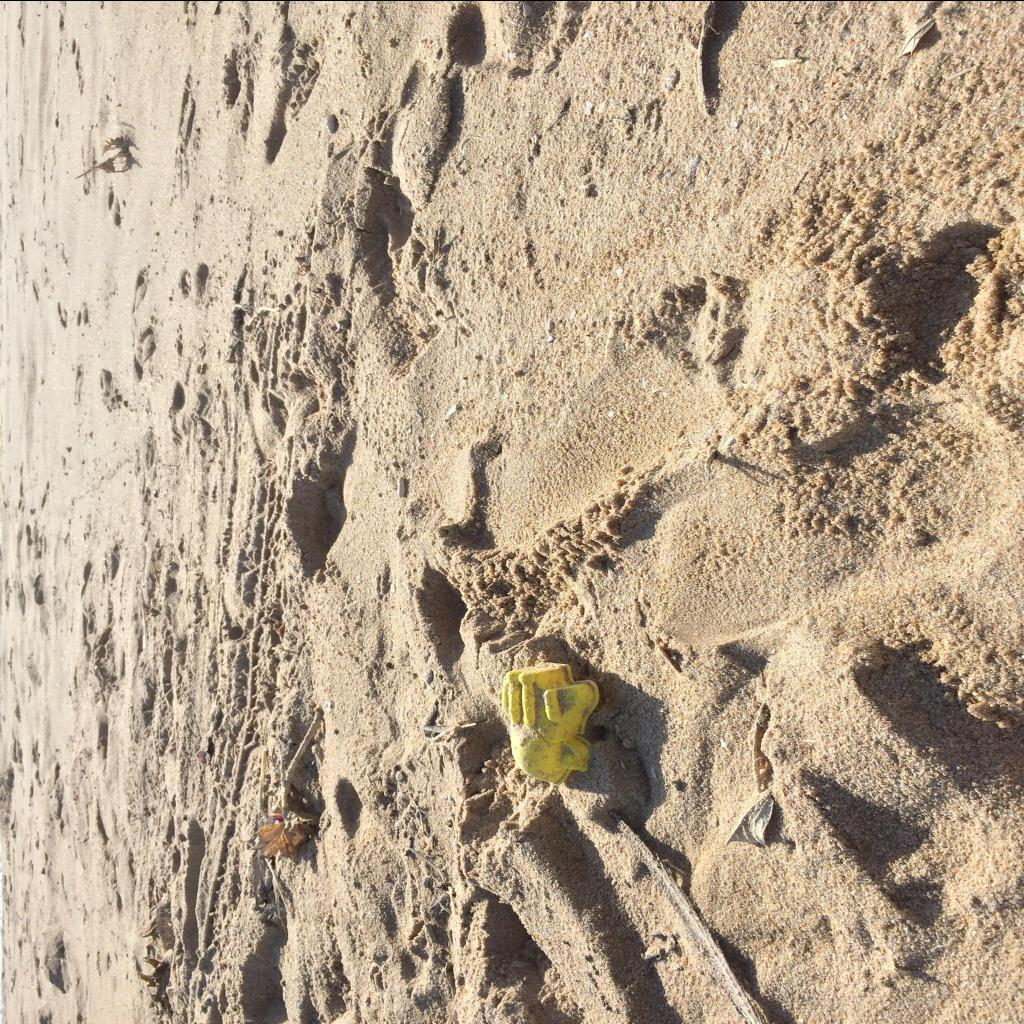Cigarette: (399, 477, 404, 497)
Other plastic wrapper: (502, 660, 600, 784)
